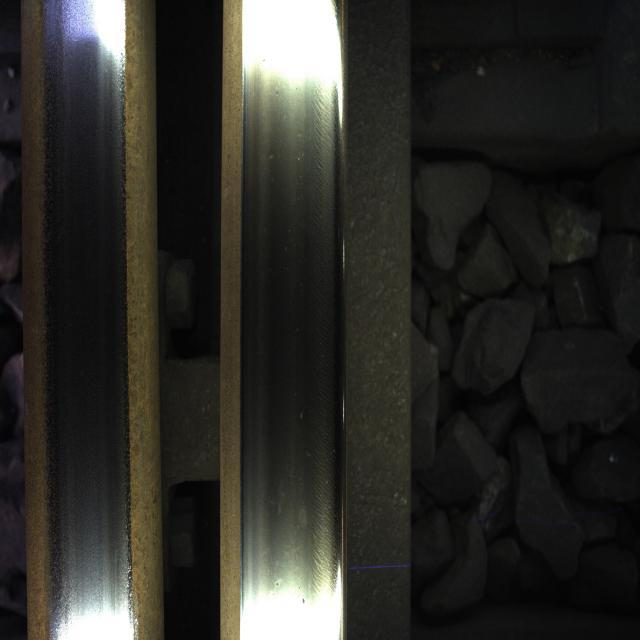break: (246, 42, 332, 622)
